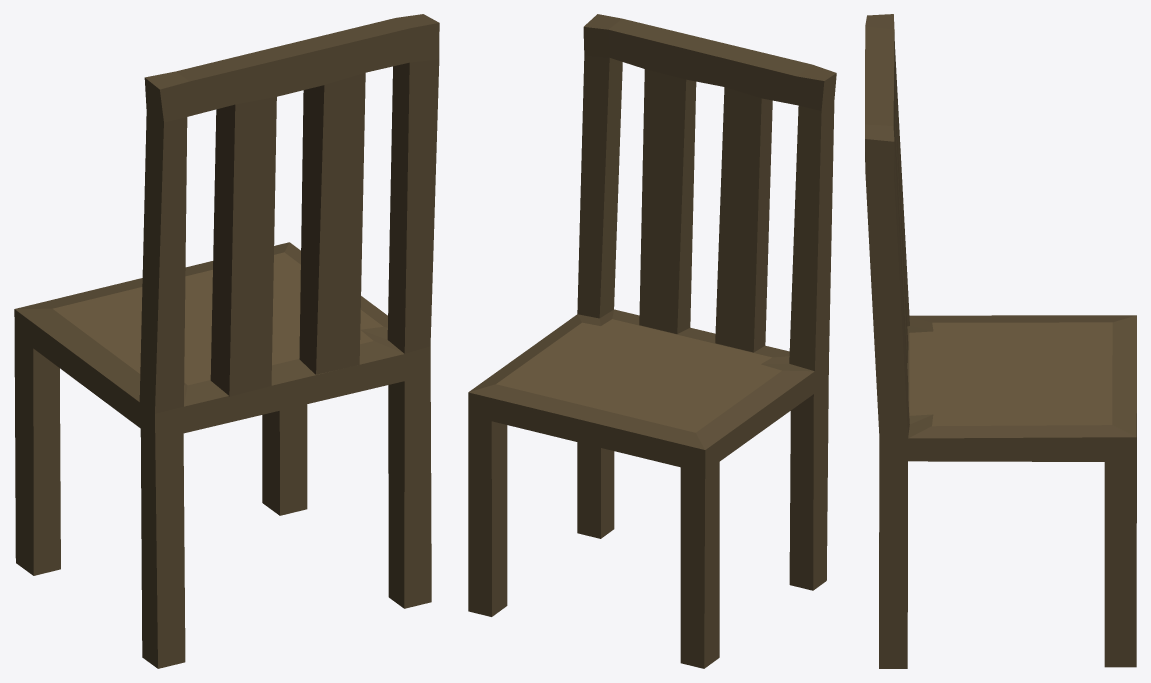
Rendered from roman_chair.fbx.
3 views of the same model, side by side, from view 1: azimuth 30°, elevation 25°; view 2: azimuth 150°, elevation 25°; view 3: azimuth 270°, elevation 25° (orthographic). The views are drawn at different scales.
Visible parts, largest first — view 1: Cube.053; view 2: Cube.053; view 3: Cube.053.
Part boxes in pixels (x1=…): Cube.053: x1=14, y1=14, x2=439, y2=668; Cube.053: x1=468, y1=14, x2=836, y2=668; Cube.053: x1=865, y1=14, x2=1136, y2=668.
Bounding box in the file's own units: 0.612 × 1.23 × 0.57.
